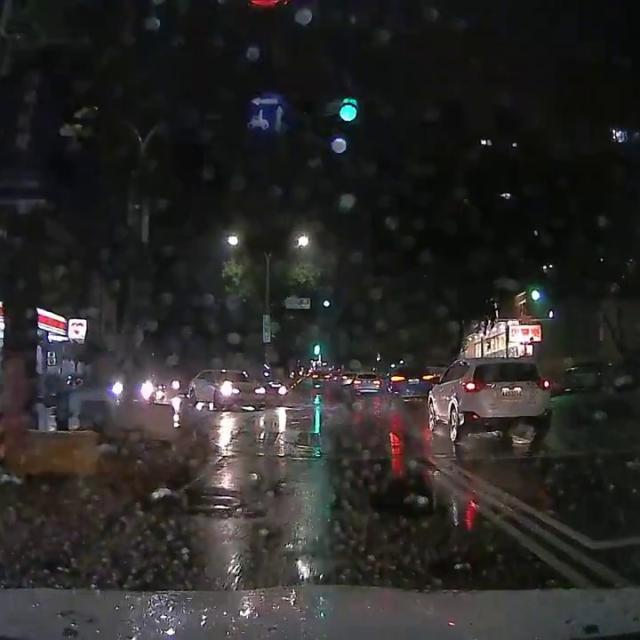Car: (423, 351, 556, 444), (186, 364, 265, 413), (381, 361, 439, 399), (552, 361, 602, 394), (350, 368, 381, 396), (308, 366, 330, 386)
